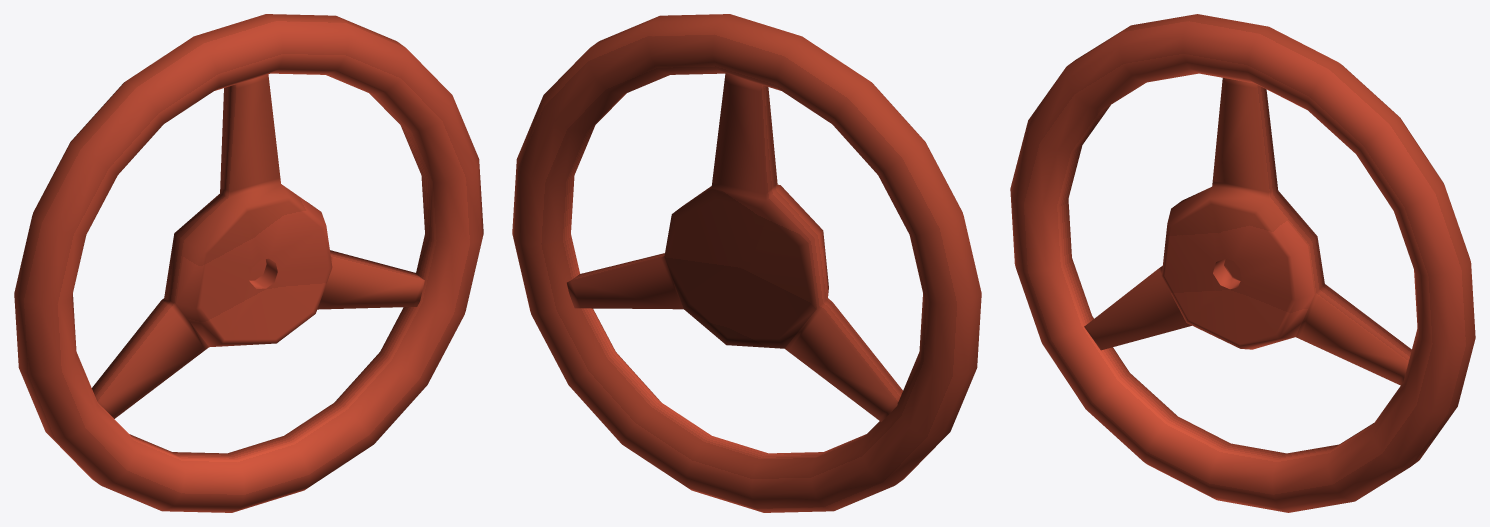
The model's file is DL_Obj_Level5_Valve.fbx.
The picture shows the model from 3 angles, left to right: view 1: azimuth 30°, elevation 25°; view 2: azimuth 150°, elevation 25°; view 3: azimuth 330°, elevation 25°; orthographic projection.
Parts seen in each view (by area): view 1: Level5_Valve; view 2: Level5_Valve; view 3: Level5_Valve.
Part boxes in pixels (x1=…): Level5_Valve: x1=14, y1=14, x2=483, y2=512; Level5_Valve: x1=512, y1=14, x2=981, y2=512; Level5_Valve: x1=1010, y1=14, x2=1475, y2=512.
Bounding box in the file's own units: 91.62 × 91.62 × 10.44.
